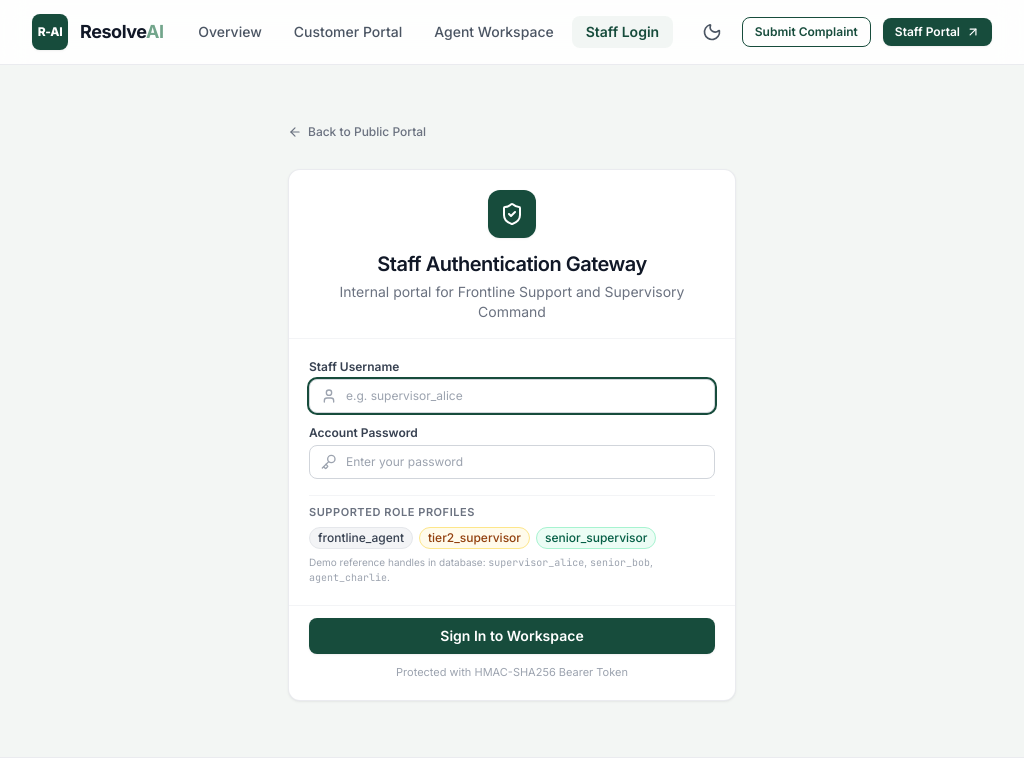
Scenario: Staff Authentication & Session Handling › displays error message on invalid credentials (401)
Type "unknown_user" into the field labelled "Staff Username" at [512, 396], box [309, 379, 715, 413]
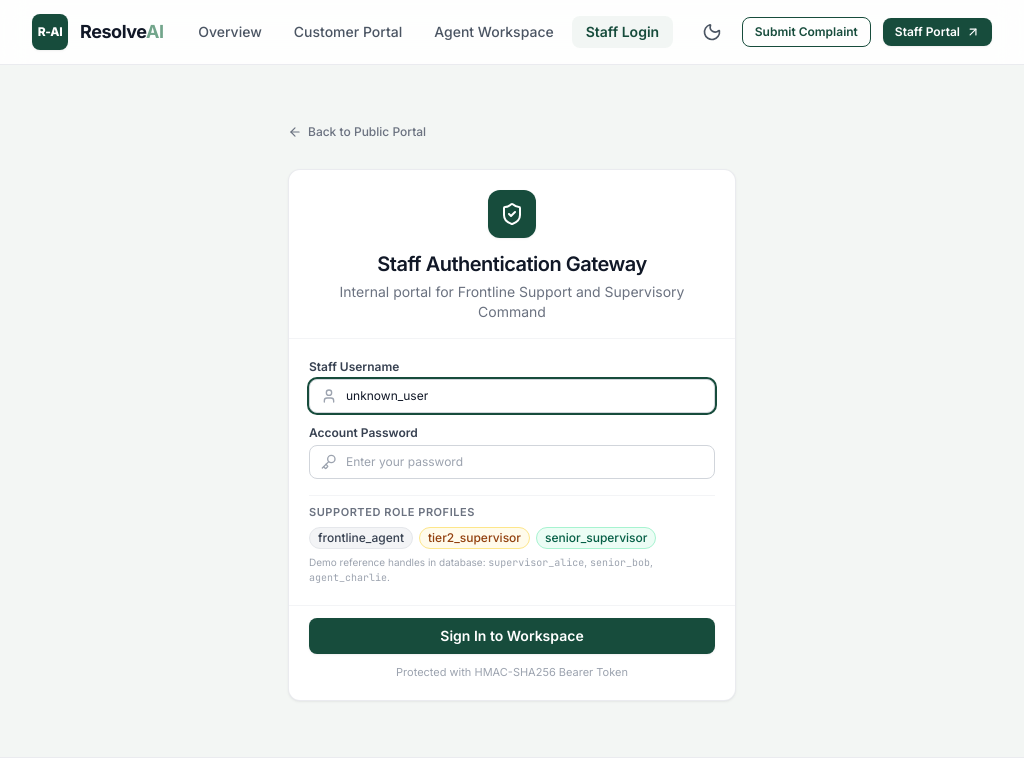
Type "WrongPassword!" into the password field labelled "Account Password" at [512, 462], box [309, 445, 715, 479]
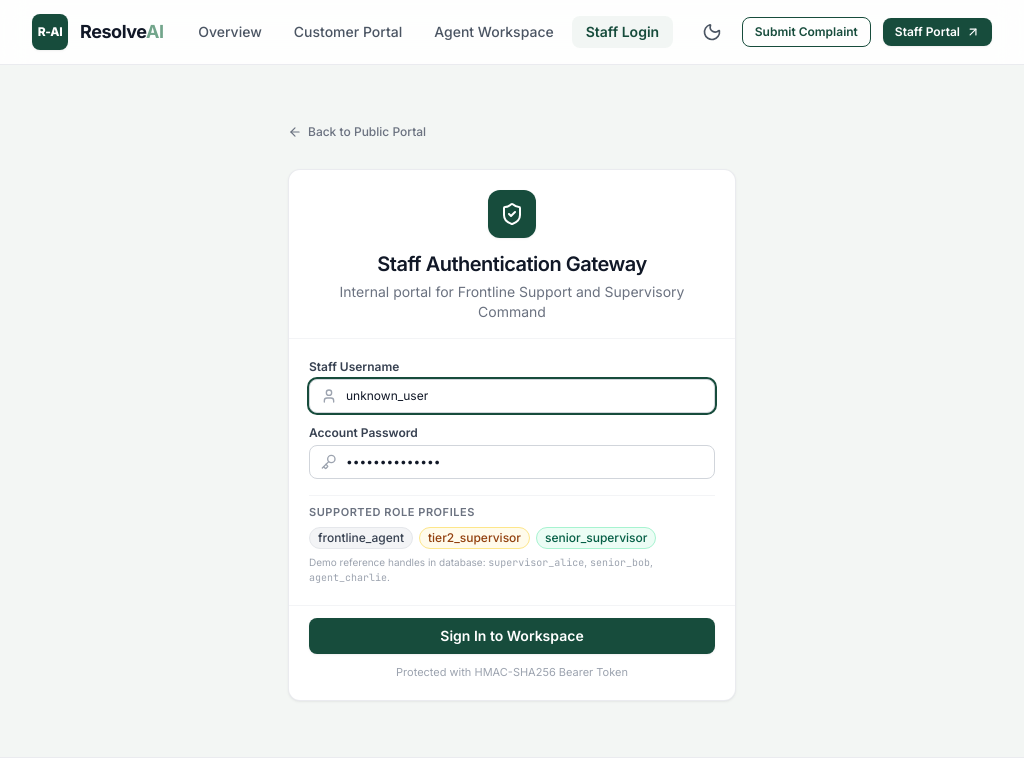
Click the button "Sign In to Workspace" at [512, 636], box [309, 618, 715, 654]
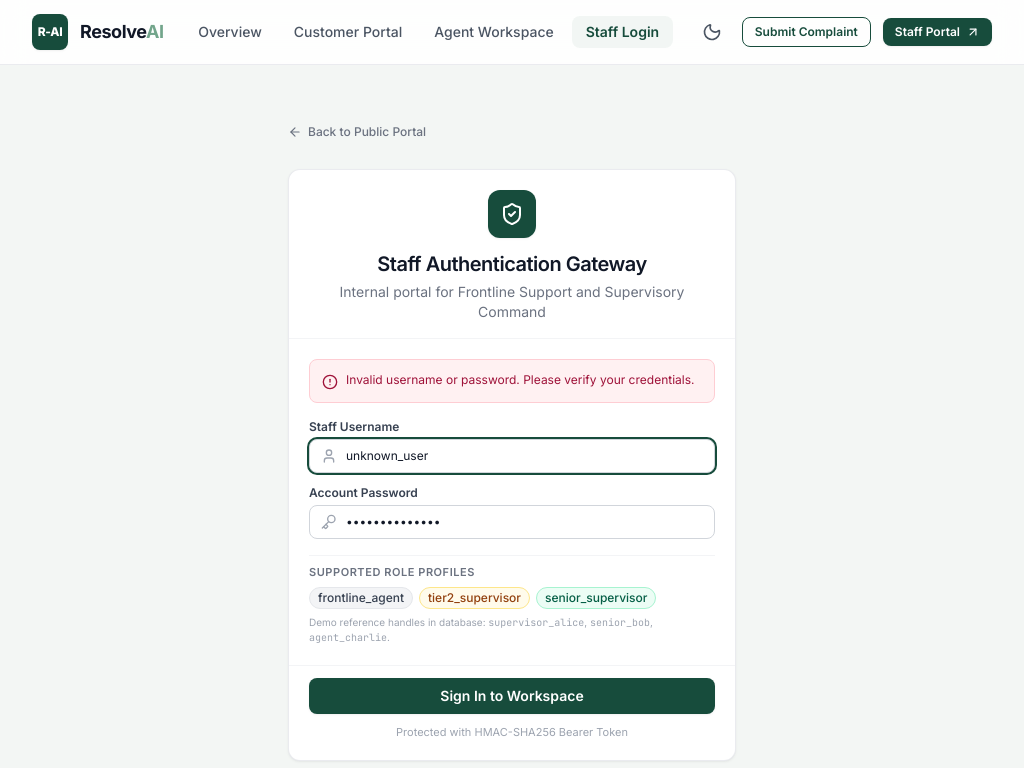
expect the message shows "Invalid username or password": met, box [346, 372, 694, 387]
